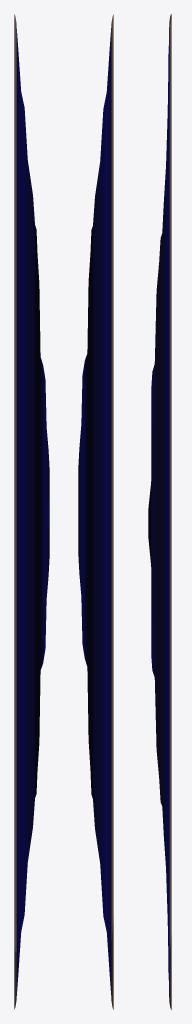
The model's file is blue_flag_222x11.gltf.
3 views of the same model, side by side, from view 1: azimuth 30°, elevation 25°; view 2: azimuth 210°, elevation 25°; view 3: azimuth 270°, elevation 25° (orthographic).
Parts seen in each view (by area): view 1: blue_flag_222x11; view 2: blue_flag_222x11; view 3: blue_flag_222x11.
Part boxes in pixels (x1,y1,x2,y2): blue_flag_222x11: (14, 14, 49, 1009); blue_flag_222x11: (78, 14, 113, 1009); blue_flag_222x11: (148, 14, 171, 1009).
Bounding box in the file's own units: 0.053 × 1.97 × 0.0417.
1 material, 1 textured.
